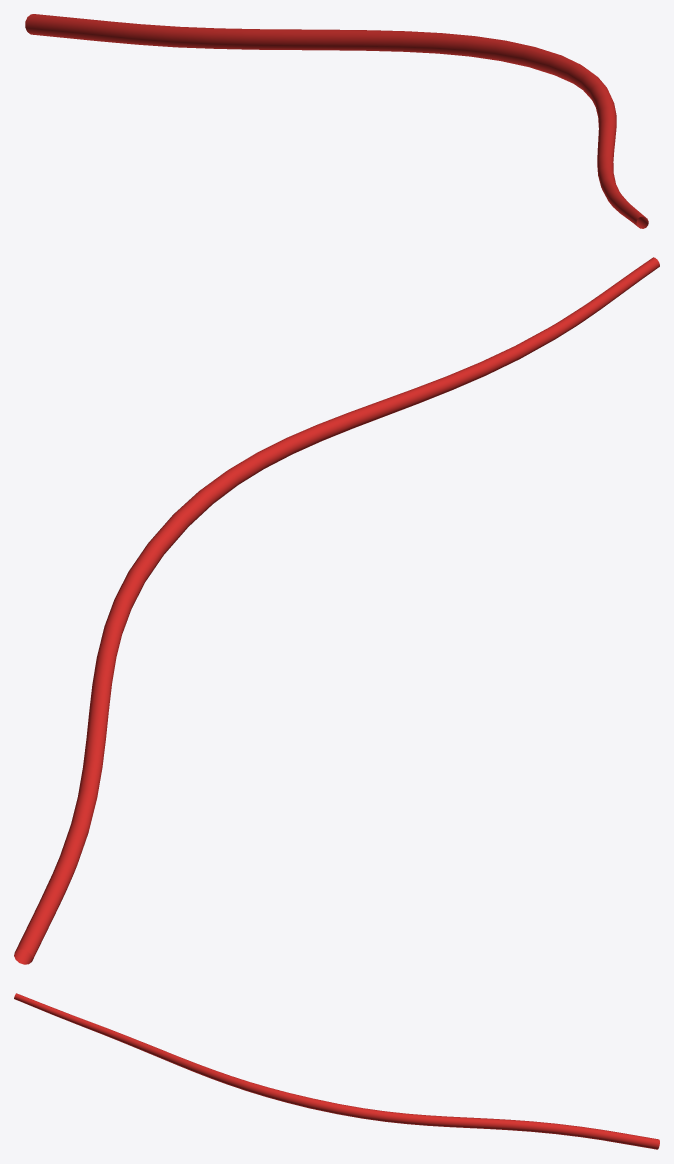
File: circulatorio-superior-ophthalmic-vein-l.glb
3 views of the same model, one above another, from view 1: azimuth 30°, elevation 25°; view 2: azimuth 150°, elevation 25°; view 3: azimuth 270°, elevation 25° (orthographic). The views are drawn at different scales.
Visible parts, largest first — view 1: Superior ophthalmic vein.l; view 2: Superior ophthalmic vein.l; view 3: Superior ophthalmic vein.l.
Part boxes in pixels (x1,y1,x2,y2): Superior ophthalmic vein.l: (25, 14, 648, 228); Superior ophthalmic vein.l: (14, 257, 659, 964); Superior ophthalmic vein.l: (14, 993, 659, 1149).
Bounding box in the file's own units: 0.0124 × 0.0154 × 0.0611.
